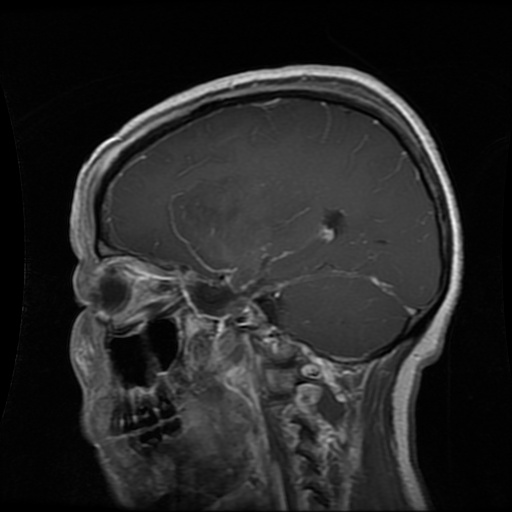glioma: (168, 178, 273, 283)
